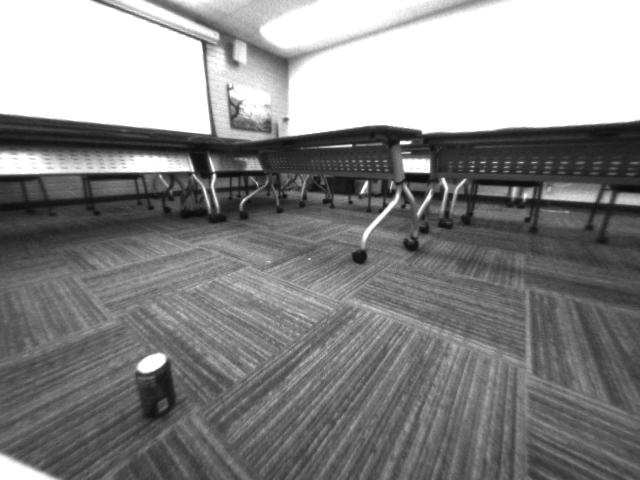can: (132, 347, 180, 421)
